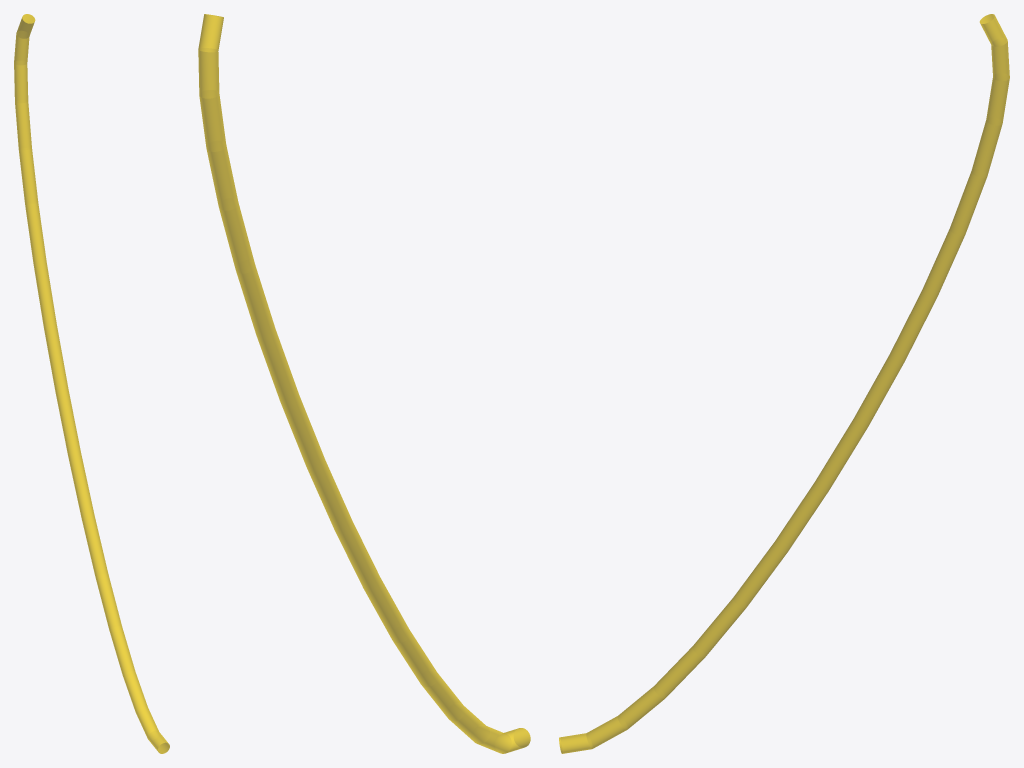
The model's file is Event_17758602_track_157.fbx.
3 views of the same model, side by side, from view 1: azimuth 30°, elevation 25°; view 2: azimuth 150°, elevation 25°; view 3: azimuth 270°, elevation 25° (orthographic). The views are drawn at different scales.
Visible parts, largest first — view 1: Model; view 2: Model; view 3: Model.
Part boxes in pixels (x1,y1,x2,y2): Model: (14,14,169,753); Model: (198,14,530,753); Model: (559,14,1009,753).
Size of the model in its own units: 0.1593 by 1.98 by 1.07.
